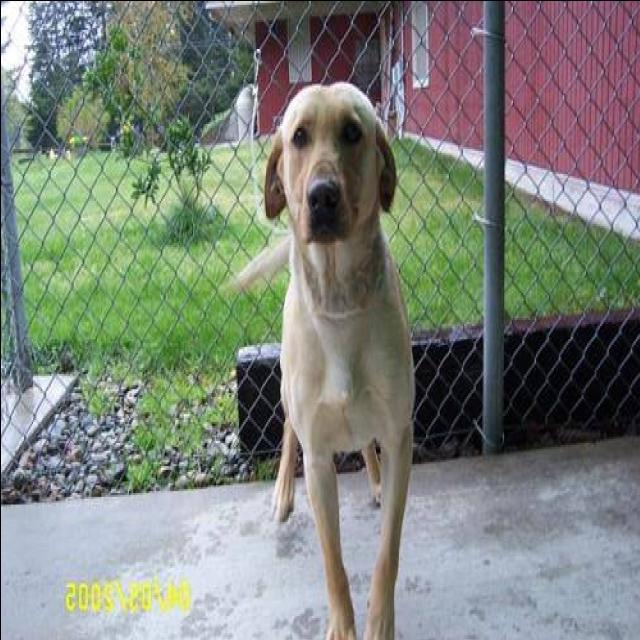dog: (257, 49, 431, 640)
